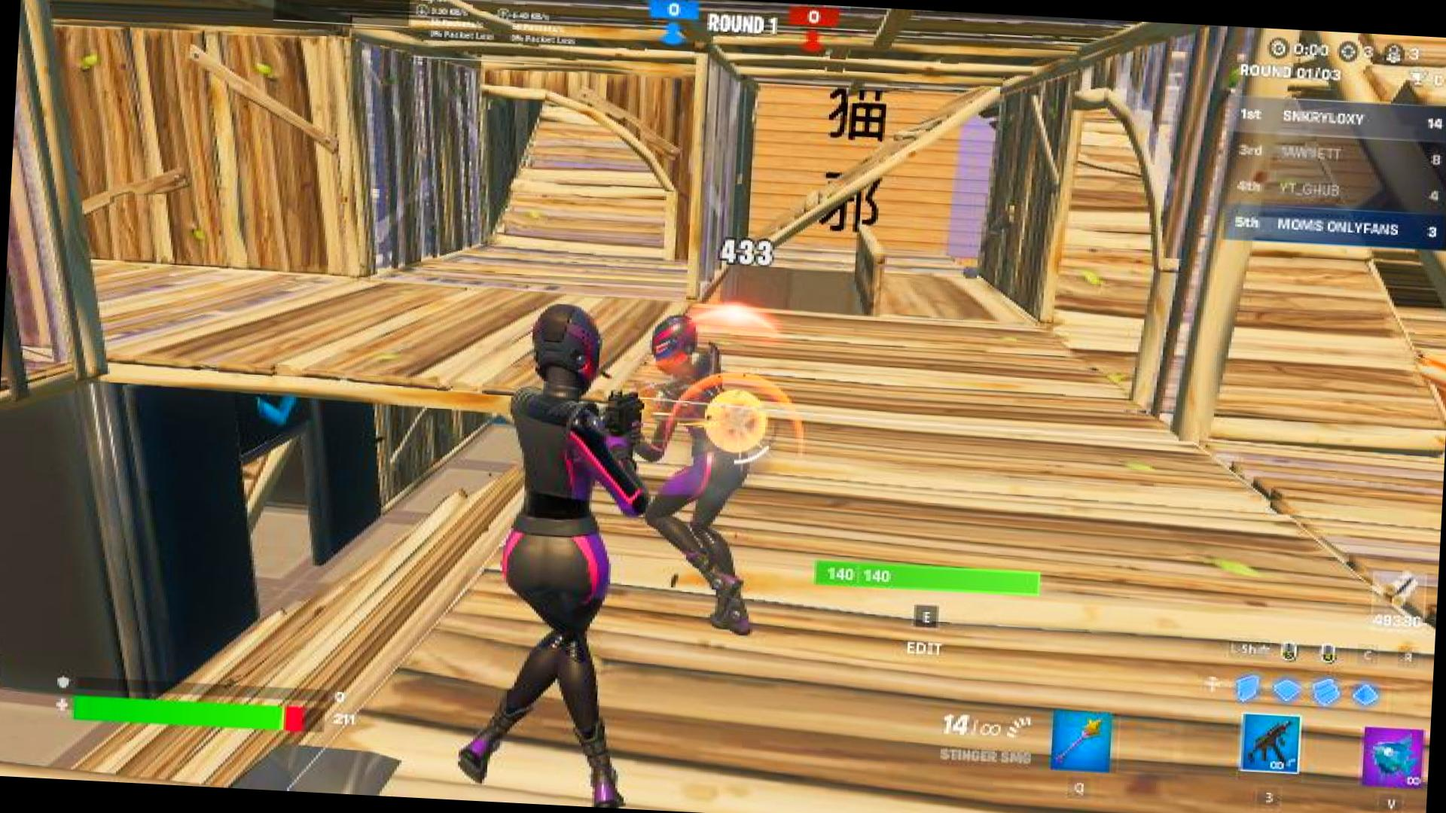player: (622, 299, 819, 662)
